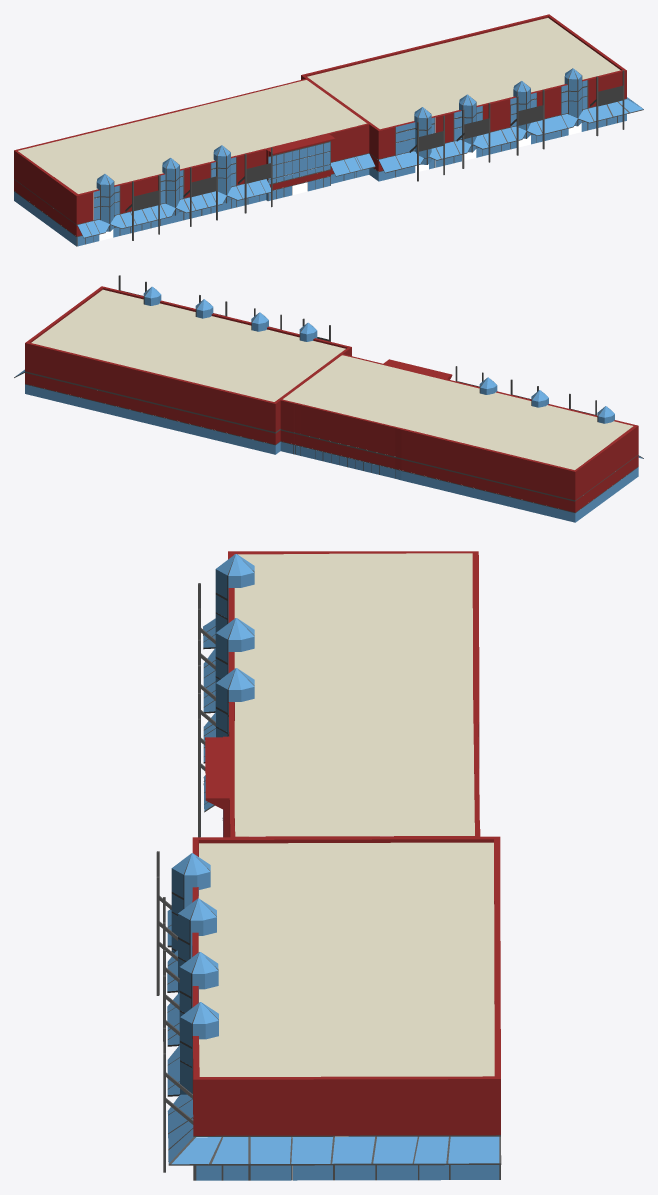
Rendered from goosens_WBV4.glb.
The picture shows the model from 3 angles, top to bottom: view 1: azimuth 30°, elevation 25°; view 2: azimuth 150°, elevation 25°; view 3: azimuth 270°, elevation 25°; orthographic projection. The views are drawn at different scales.
Visible parts, largest first — view 1: Cube.004; view 2: Cube.004; view 3: Cube.004.
Part boxes in pixels (bbox=[...]): Cube.004: bbox=[14, 14, 643, 246]; Cube.004: bbox=[14, 275, 643, 522]; Cube.004: bbox=[156, 551, 501, 1180].
Size of the model in its own units: 596 by 66.71 by 161.
